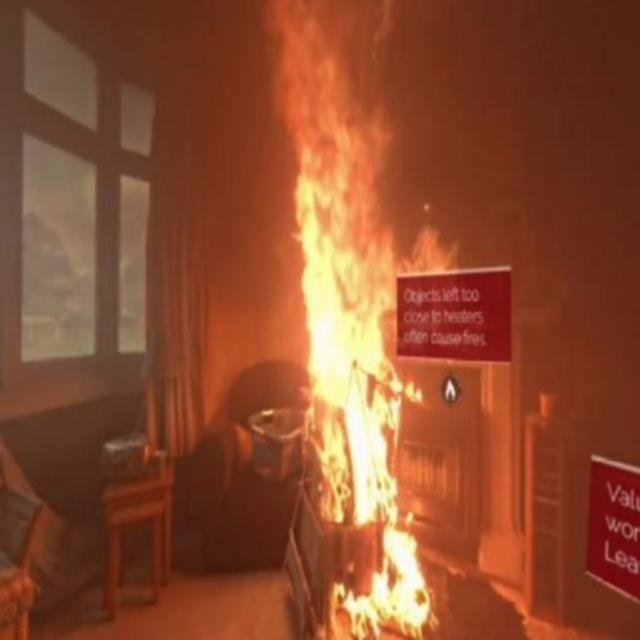fire: (258, 4, 424, 458)
